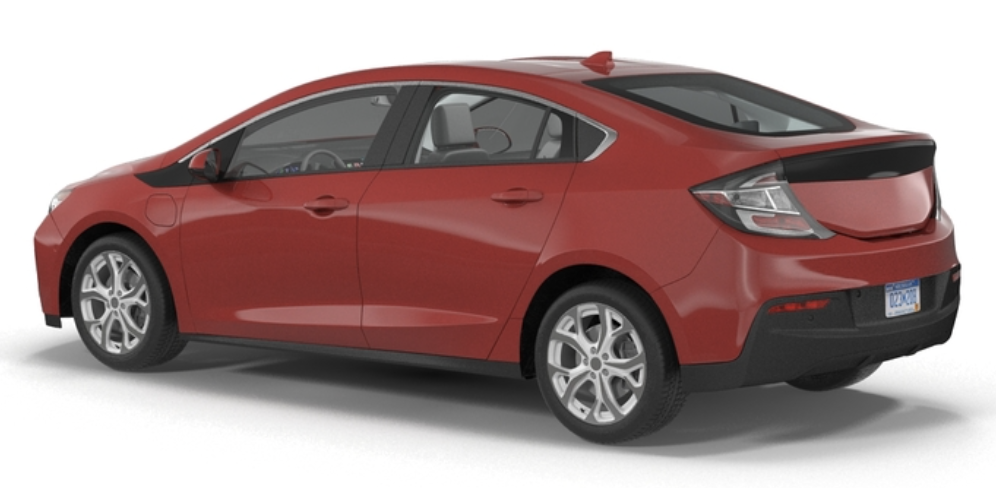hatch: (144, 192, 179, 229)
